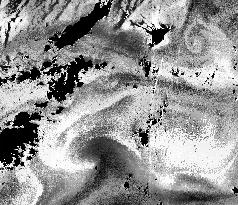CE: (174, 14, 221, 58)
